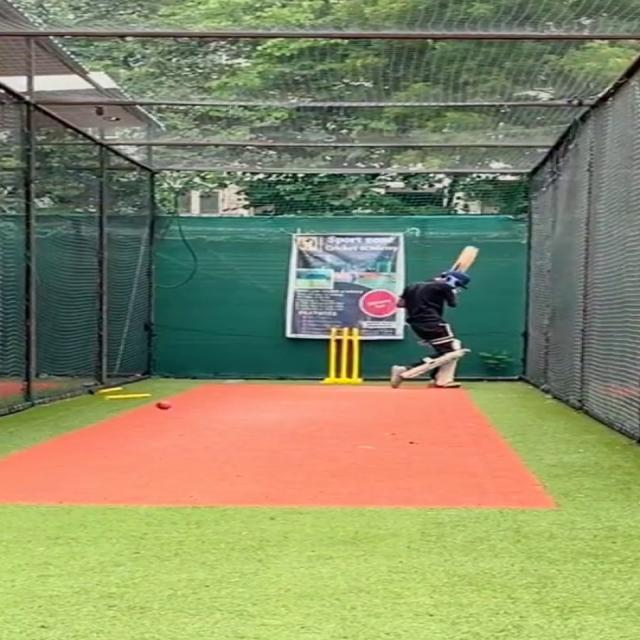ball: (151, 398, 173, 409)
stump: (322, 326, 362, 384)
